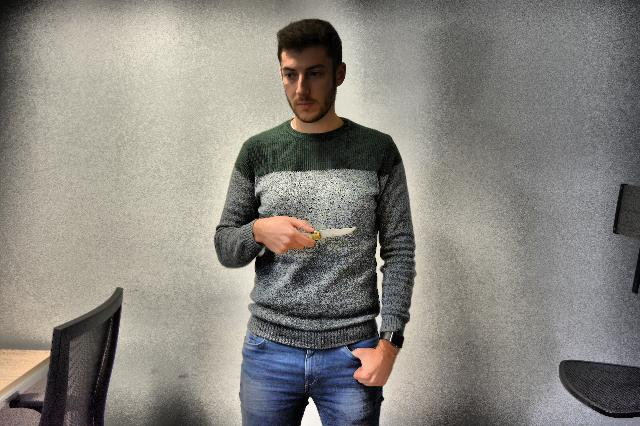knife: (291, 217, 359, 252)
